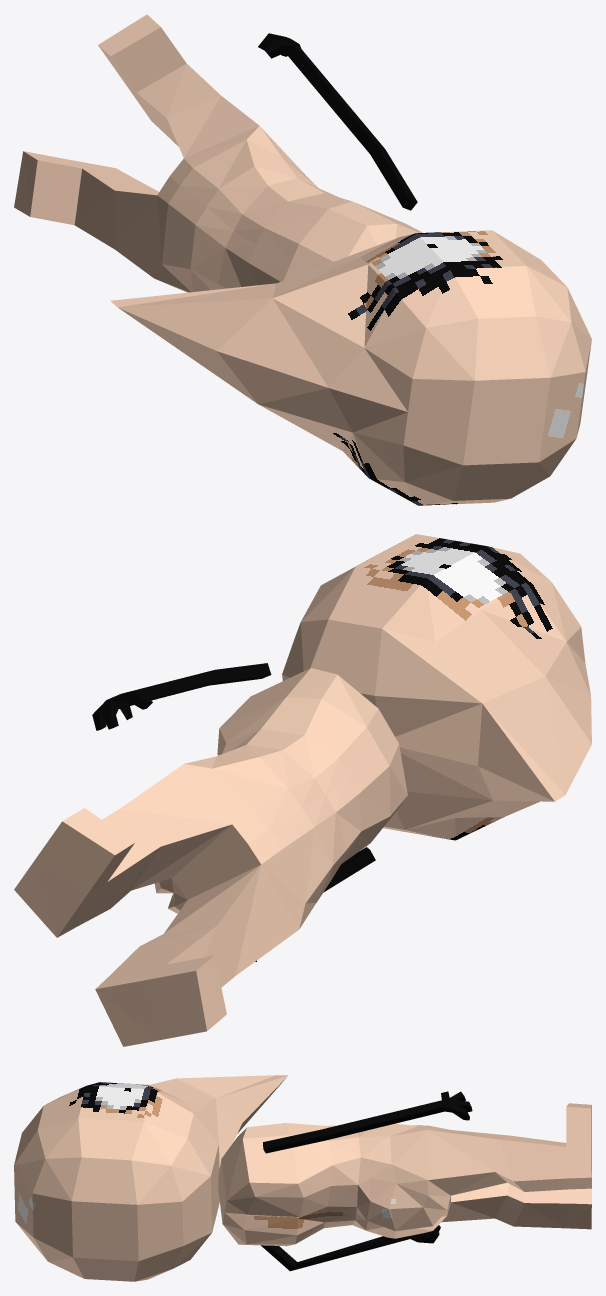
Rendered from impKing_heroic.obj.
3 renders of one model, top to bottom at view 1: azimuth 30°, elevation 25°; view 2: azimuth 150°, elevation 25°; view 3: azimuth 270°, elevation 25°, orthographic. The views are drawn at different scales.
Parts seen in each view (by area): view 1: Cube.018; view 2: Cube.018; view 3: Cube.018.
Part boxes in pixels (left/top/right/bottom): Cube.018: left=14, top=14, right=591, bottom=505; Cube.018: left=14, top=534, right=591, bottom=1046; Cube.018: left=14, top=1075, right=591, bottom=1281.
Size of the model in its own units: 3.86 by 2.9 by 7.7.
Materials: 1 (1 with a texture image).
